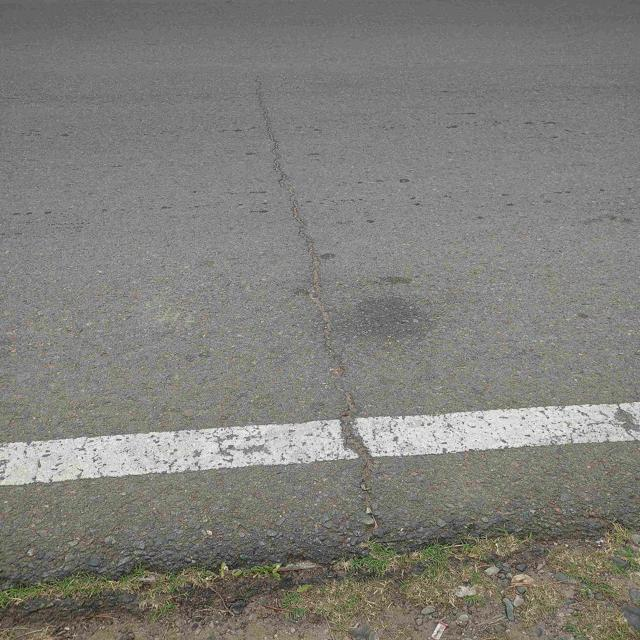Memanjang: (225, 42, 405, 514)
